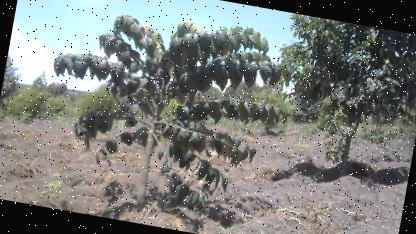tree: (26, 0, 288, 227), (259, 12, 416, 187)
